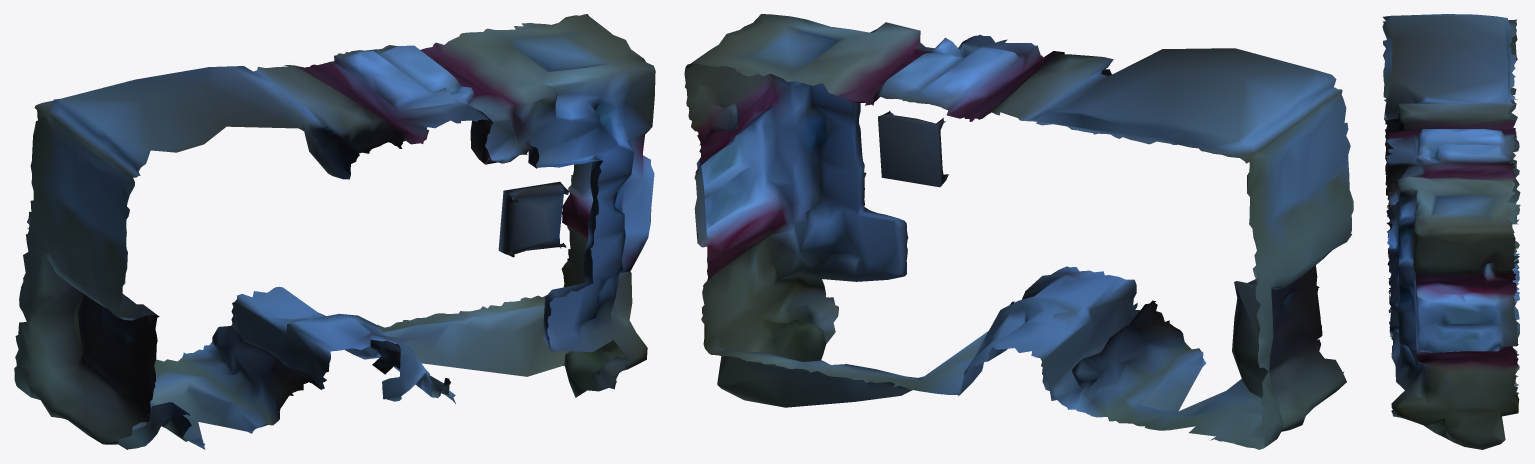
Rendered from sallskapsrum.fbx.
3 views of the same model, side by side, from view 1: azimuth 30°, elevation 25°; view 2: azimuth 150°, elevation 25°; view 3: azimuth 270°, elevation 25° (orthographic). The views are drawn at different scales.
Parts seen in each view (by area): view 1: Model; view 2: Model; view 3: Model.
Boxes of the visible parts, <box> form: Model: <box>14,14,655,449</box>; Model: <box>684,14,1353,449</box>; Model: <box>1382,14,1520,449</box>.
Size of the model in its own units: 12.04 by 3.66 by 8.06.
